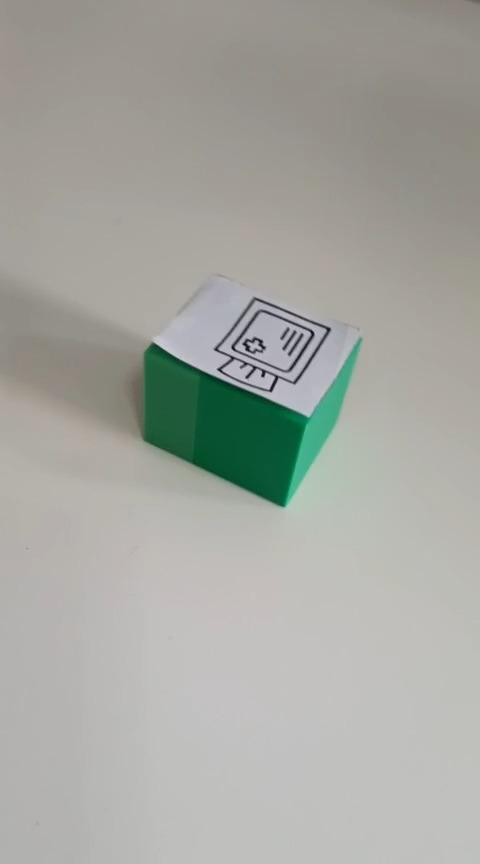Gauze: (141, 271, 363, 507)
